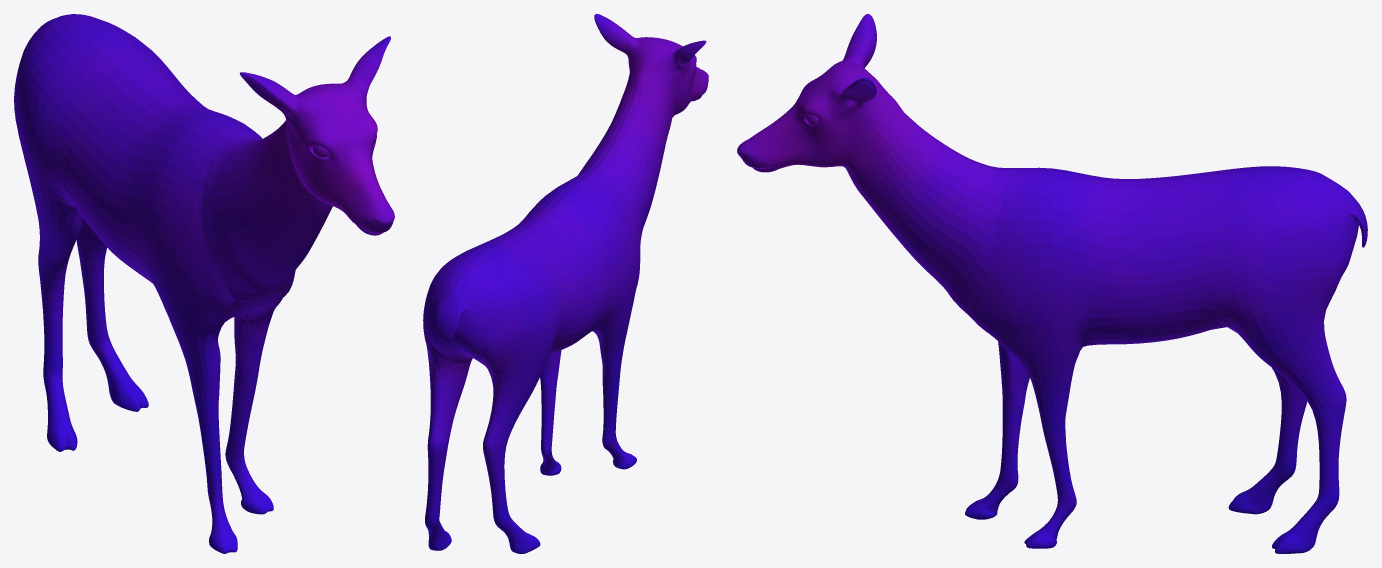
The model's file is pred.glb.
The picture shows the model from 3 angles, left to right: view 1: azimuth 30°, elevation 25°; view 2: azimuth 150°, elevation 25°; view 3: azimuth 270°, elevation 25°; orthographic projection. The views are drawn at different scales.
Size of the model in its own units: 0.1154 by 0.3936 by 0.466.
